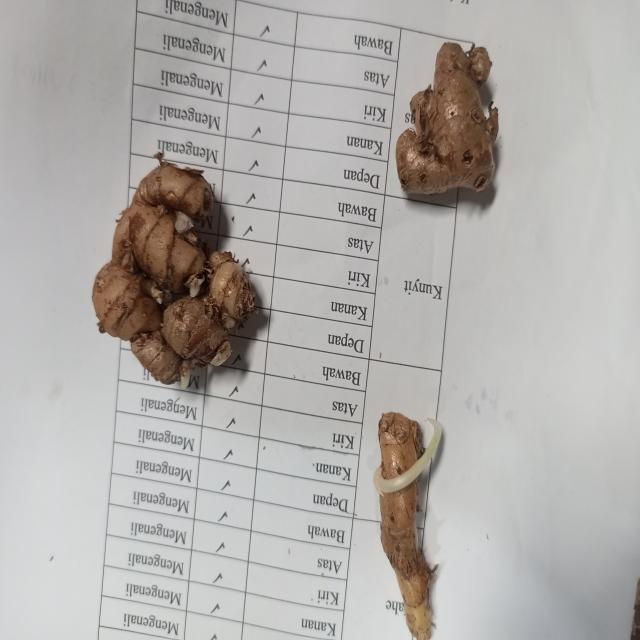ginger: (104, 157, 246, 366), (377, 416, 448, 638), (402, 44, 494, 182)
